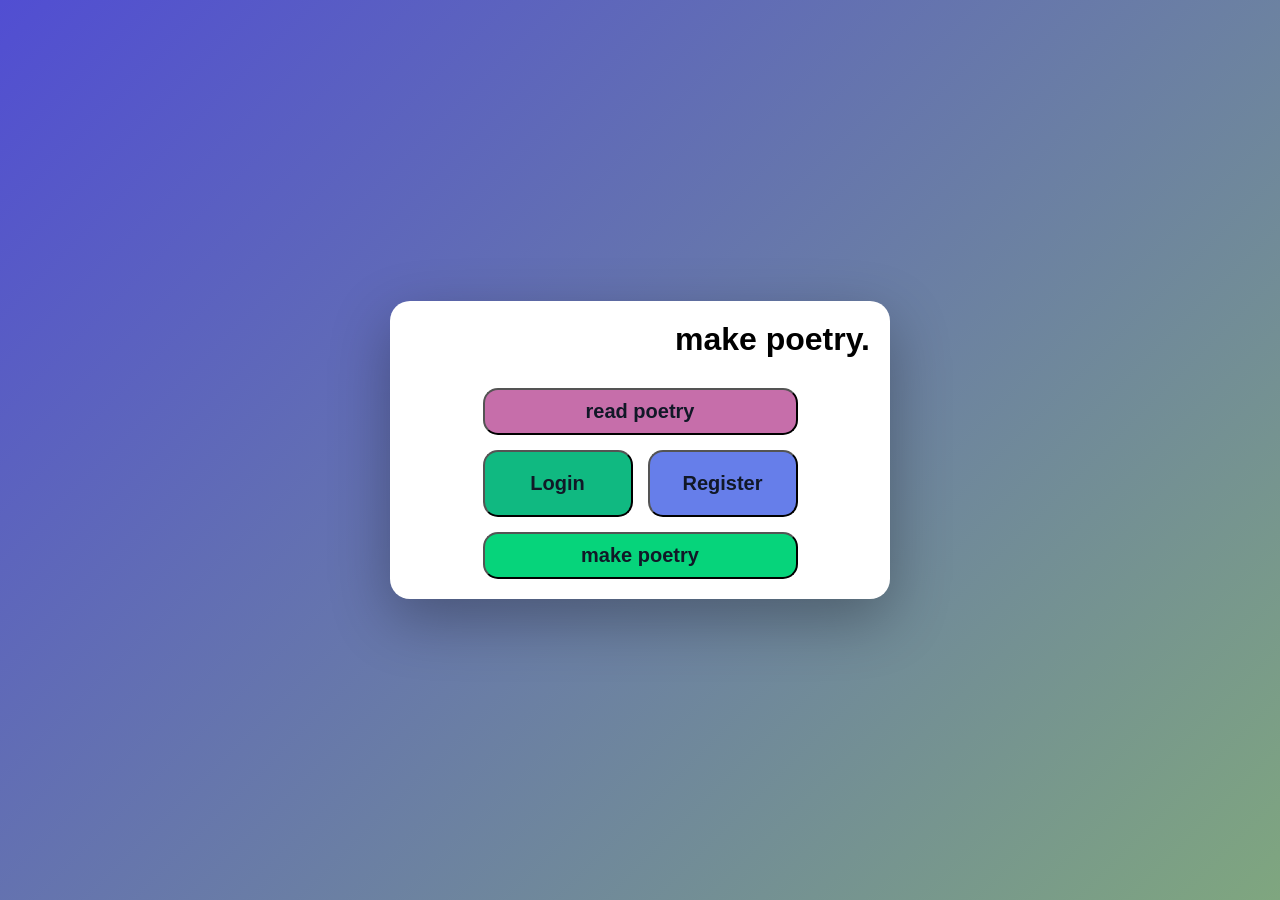
Poetry-App › navigates from home through the dashboard to the limerick editor
The image size is (1280, 900).
Click the button "make poetry".
click(640, 556)  # box [482,532,798,579]
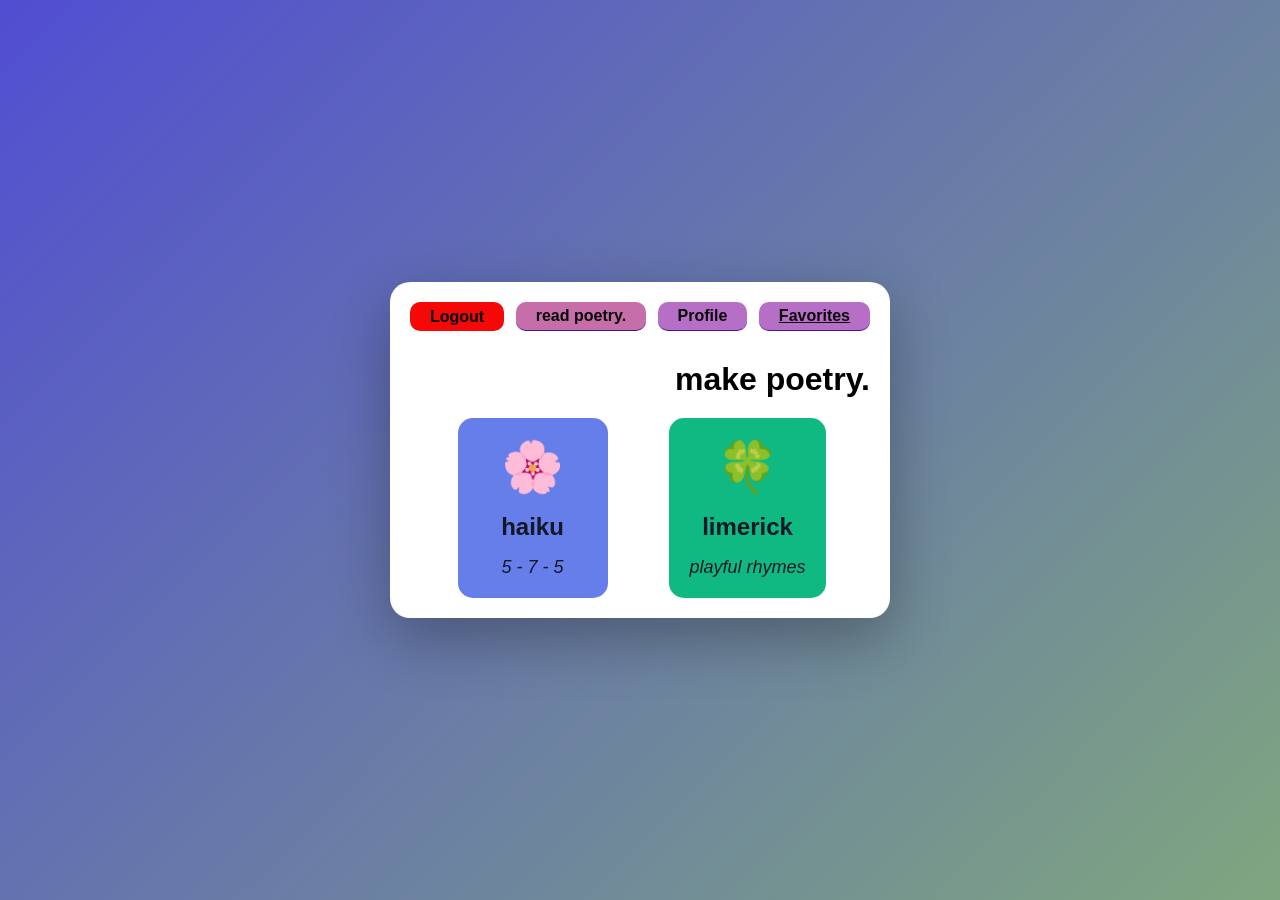
Click the link with aria-label "open limerick editor".
click(748, 508)  # box [670,418,826,598]
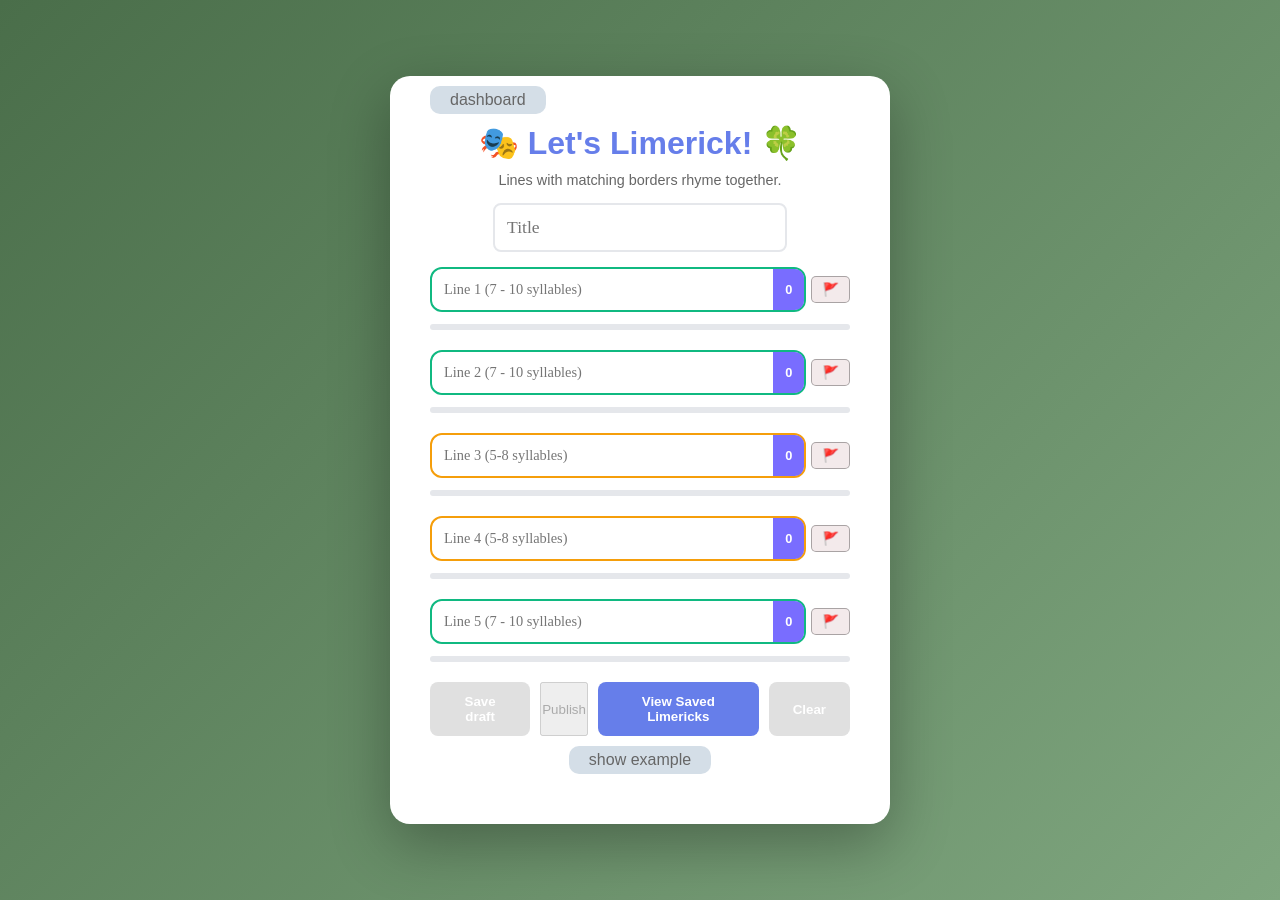
Now the heading "🎭 Let's Limerick! 🍀" is shown, box [479,124,801,162]
